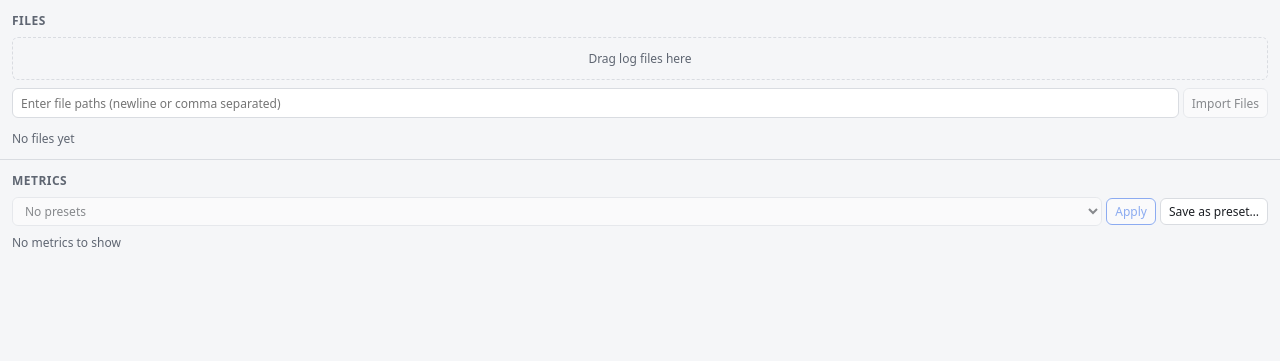
Test: FilePanel (ipc-ui.md §4.2) › needs_user_choice shows candidate buttons and re-imports with overrides on pick
Type "C:\\data\\choice.dat" into the field with test id "path-input". click: (595, 103)
box: [12,88,1179,118]
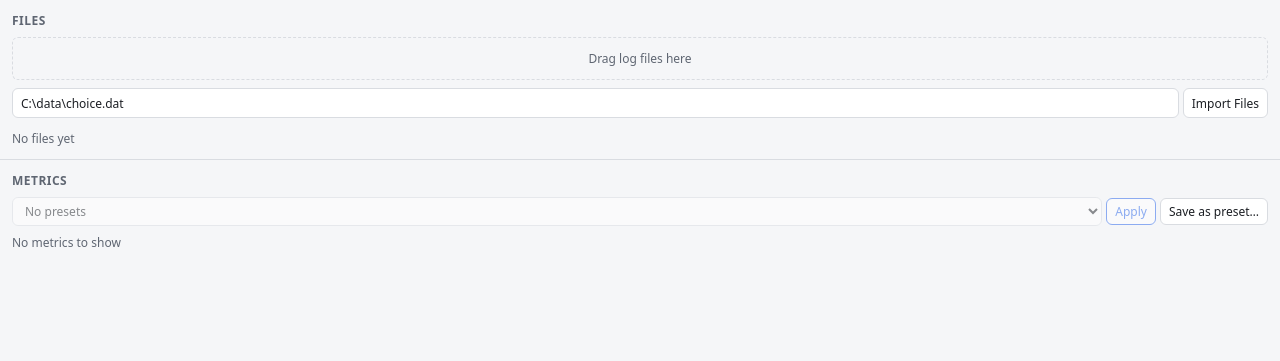
Click the button "Import Files". click: (1225, 103)
box: [1183,88,1268,118]
Wait 500 ms
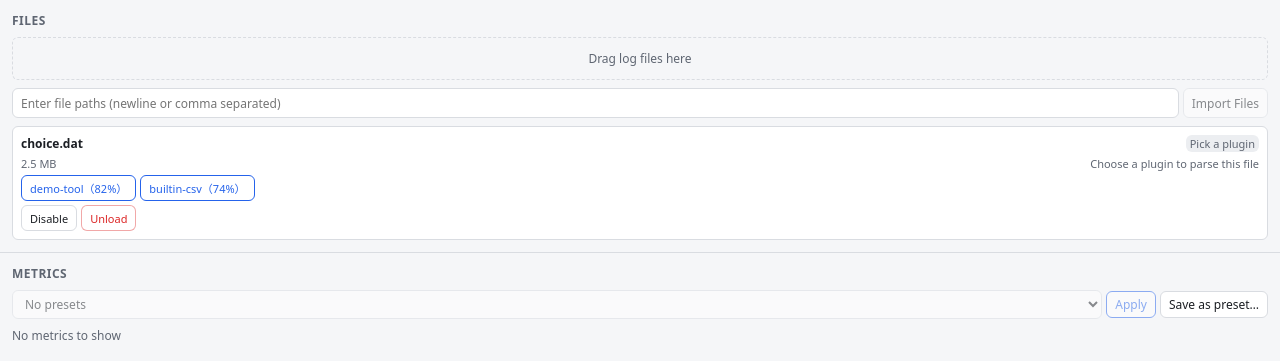
Expected: the element with test id "plugin-choice" is shown, [21,175,255,201]
Click the button "builtin-csv（74%）". click: (197, 188)
box: [140,175,255,201]
Wait 500 ms
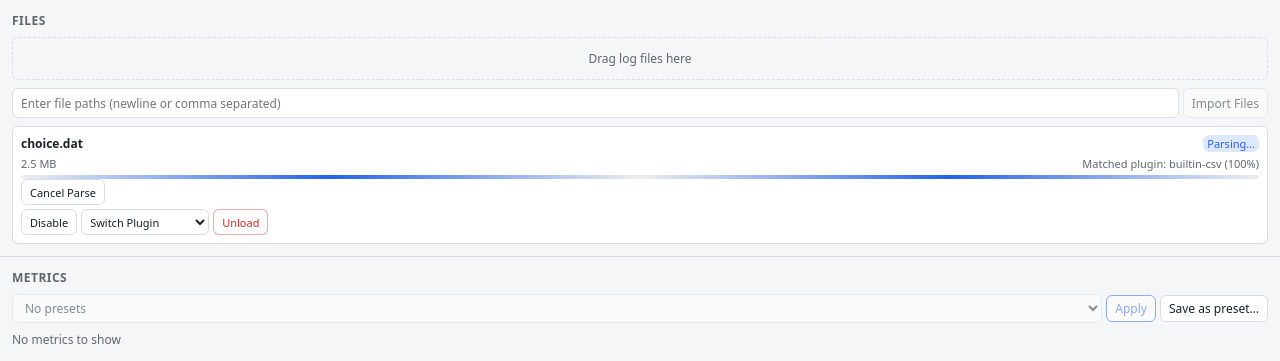
Expected: the text with test id "status-badge" shows "Parsing", [1207,136,1255,151]
